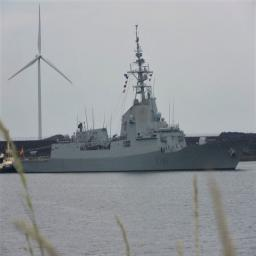Fragata: (13, 22, 252, 176)
